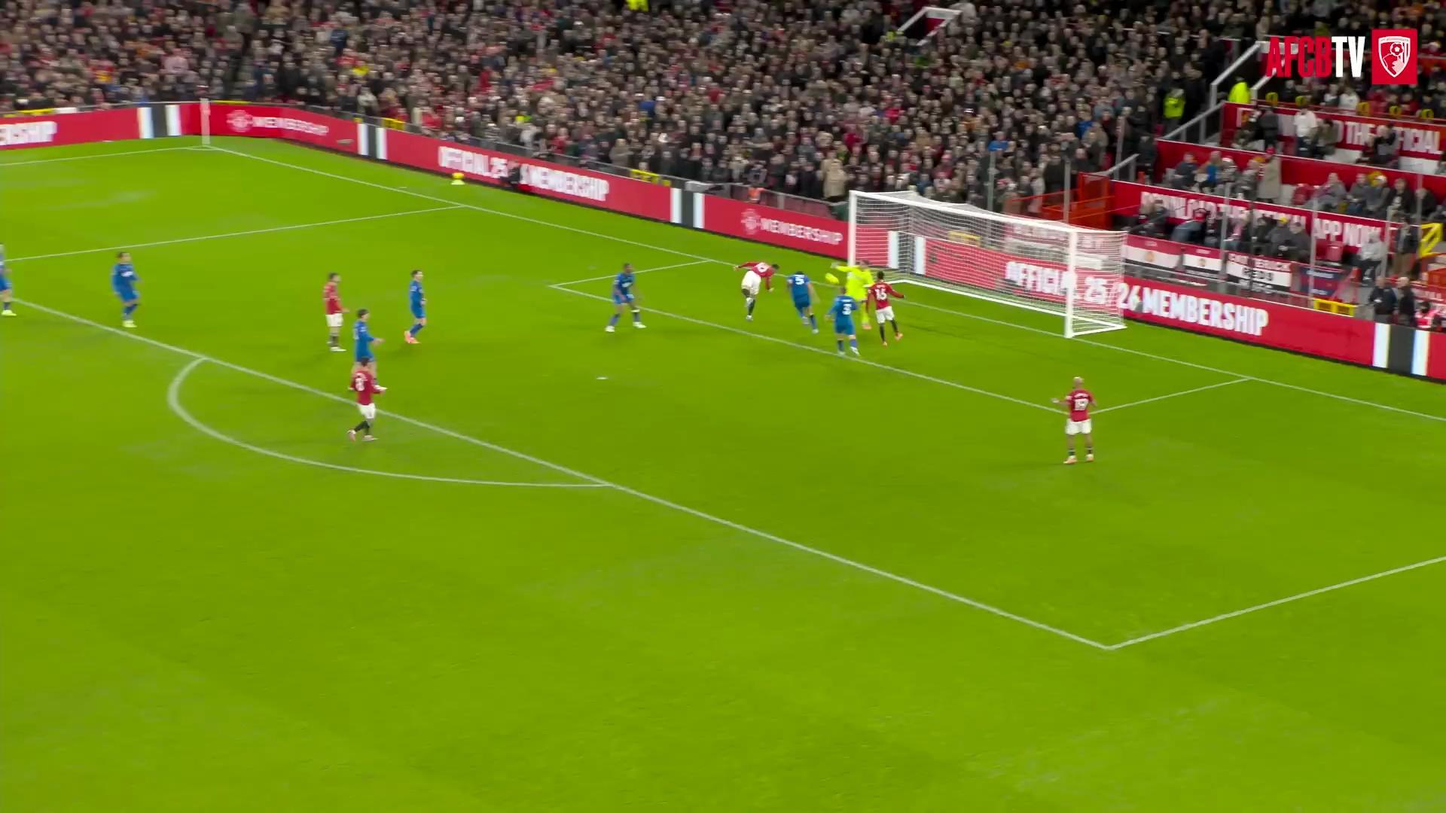football: (822, 267, 840, 290)
player: (1053, 376, 1095, 464), (348, 364, 385, 440), (868, 270, 905, 346), (833, 260, 873, 330), (606, 263, 644, 332), (734, 262, 776, 320), (111, 251, 139, 327), (828, 286, 858, 355), (785, 273, 818, 333), (353, 309, 383, 373), (323, 273, 346, 352), (405, 269, 426, 343), (0, 245, 16, 316)
